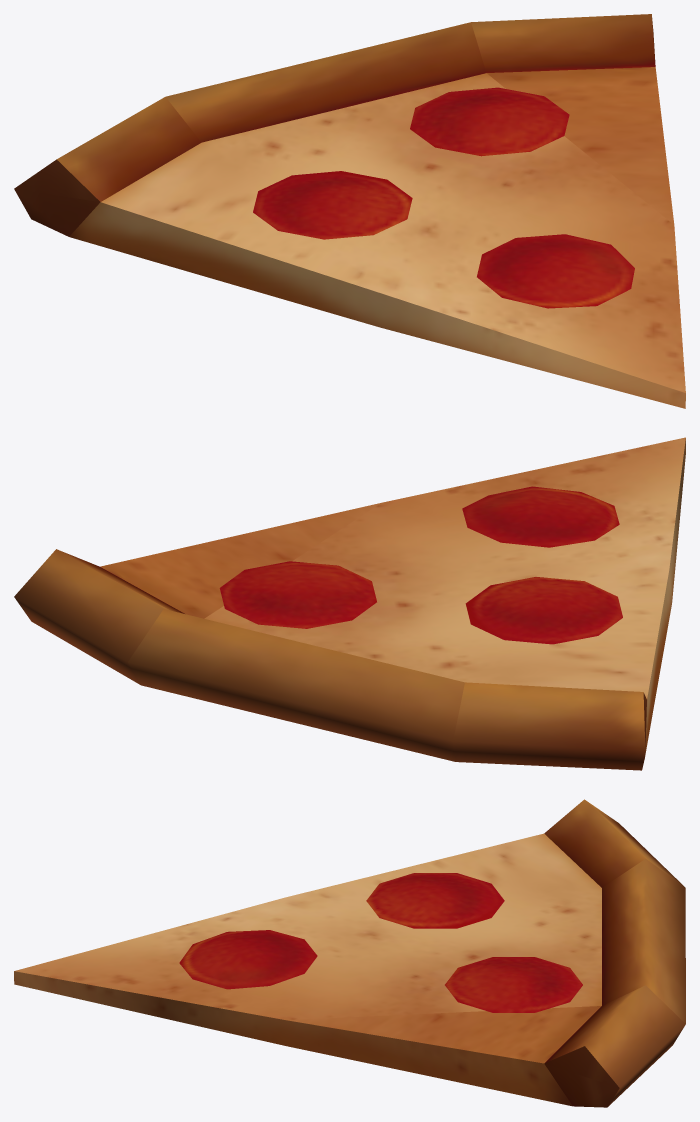
File: Pizza1.fbx
3 views of the same model, one above another, from view 1: azimuth 30°, elevation 25°; view 2: azimuth 150°, elevation 25°; view 3: azimuth 270°, elevation 25° (orthographic). The views are drawn at different scales.
Parts seen in each view (by area): view 1: Pizza1; view 2: Pizza1; view 3: Pizza1.
Part boxes in pixels (<box>): Pizza1: <box>14,14,685,408</box>; Pizza1: <box>14,437,685,770</box>; Pizza1: <box>14,799,685,1107</box>.
Size of the model in its own units: 0.1821 by 0.0207 by 0.1952.
